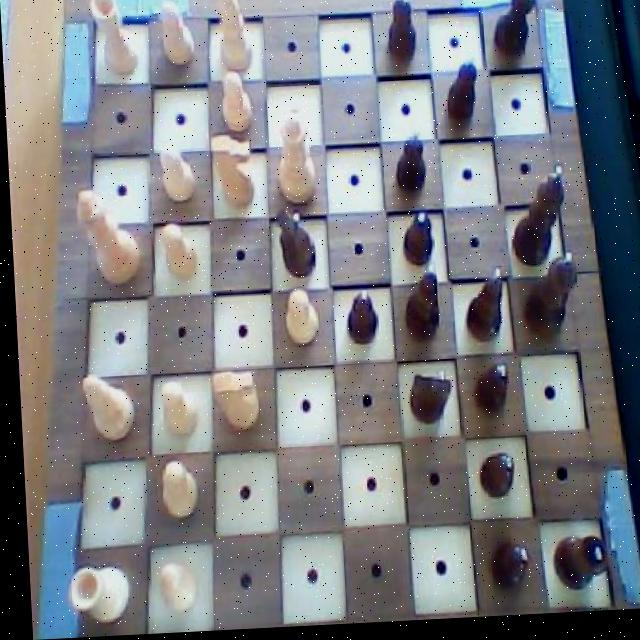bishop: (458, 268, 505, 351), (398, 268, 445, 350)
black-bishop: (503, 167, 567, 275)
black-king: (269, 206, 317, 283), (402, 371, 450, 430)
black-knight: (438, 59, 479, 132), (480, 538, 526, 599), (391, 131, 429, 204), (465, 364, 510, 425), (381, 0, 420, 68), (396, 212, 433, 272), (468, 454, 510, 505), (340, 293, 376, 351)
black-pawn: (514, 255, 577, 349)
black-queen: (541, 535, 603, 600), (489, 0, 545, 65)
black-rook: (74, 369, 135, 448), (211, 0, 255, 79)
white-bishop: (73, 186, 141, 291)
white-king: (207, 130, 256, 212), (206, 367, 259, 437)
white-knight: (156, 0, 200, 73), (151, 458, 196, 524), (155, 219, 199, 286), (275, 288, 319, 350), (154, 379, 196, 442), (155, 140, 195, 205), (149, 559, 194, 614), (216, 71, 254, 136)
white-pawn: (270, 110, 318, 212)
white-queen: (60, 561, 129, 629), (86, 0, 135, 81)
